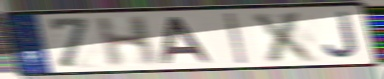7: (45, 17, 94, 71)
A: (159, 15, 215, 65)
H: (94, 14, 160, 69)
I: (223, 11, 250, 66)
J: (322, 10, 361, 60)
X: (249, 9, 324, 64)
